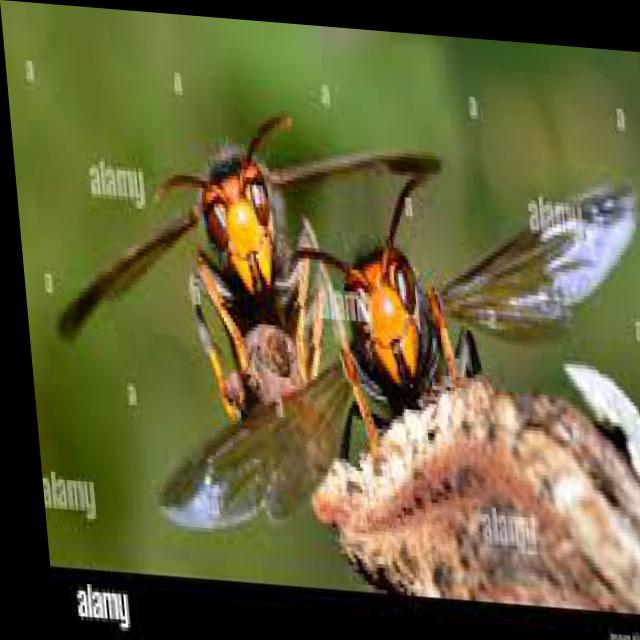Vespa Velutina: (7, 84, 449, 430)
